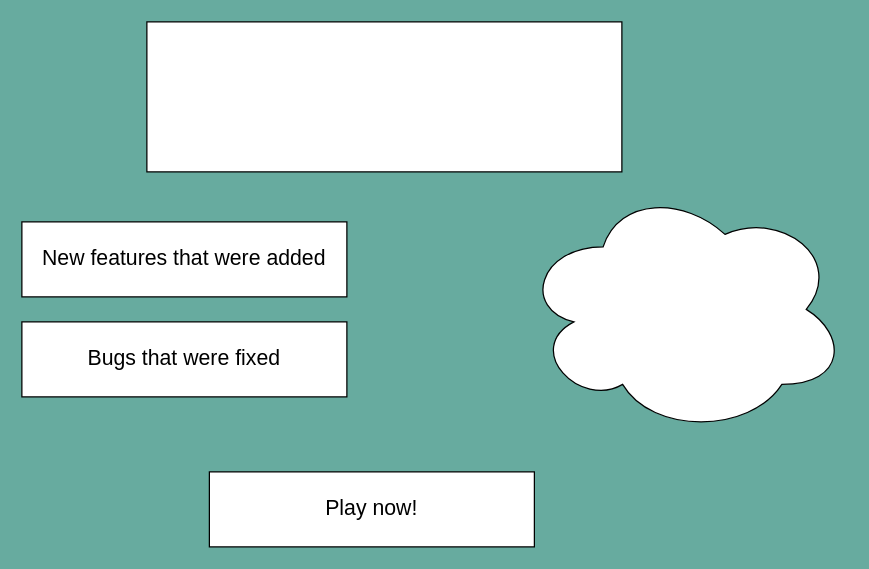
Some shapes in this 869 by 569 pixel diagram are drawn without their labels. The centre of each missing label's shape, as x and y in pixels:
"Graphic pertaining to event or item update" goes at pixel 684 308.
"New Update screen!" goes at pixel 384 96.
